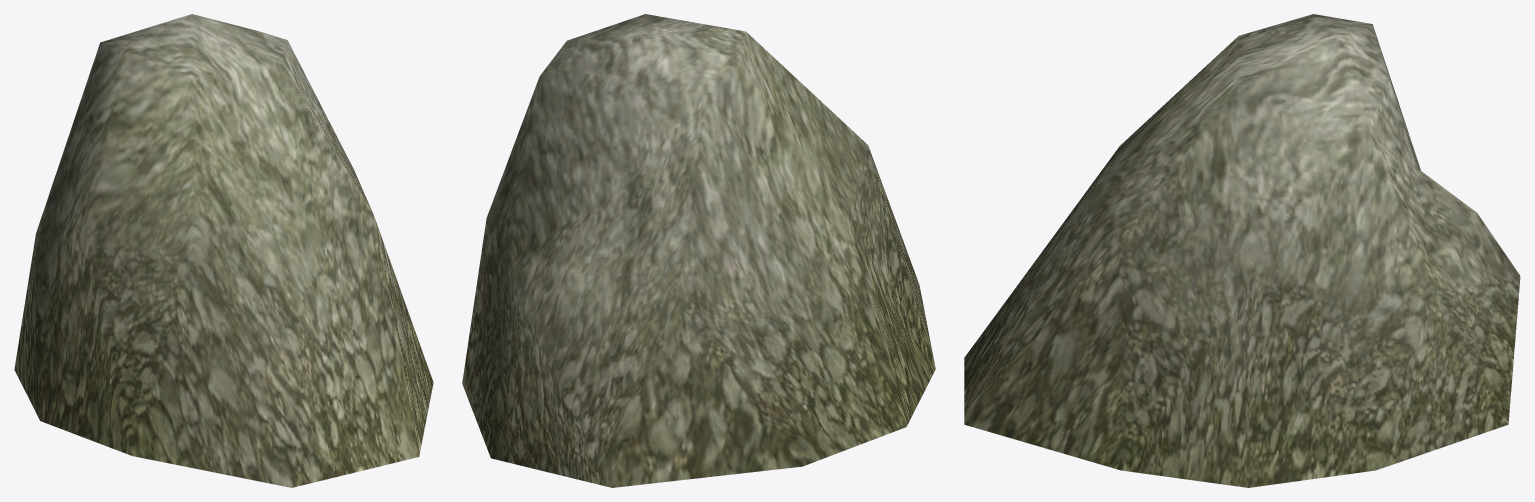
File: elwynncliffrock01.obj
3 renders of one model, left to right at view 1: azimuth 30°, elevation 25°; view 2: azimuth 150°, elevation 25°; view 3: azimuth 270°, elevation 25°, orthographic. The views are drawn at different scales.
Visible parts, largest first — view 1: elwynncliffrock01; view 2: elwynncliffrock01; view 3: elwynncliffrock01.
Boxes of the visible parts, left/top/right/bottom form: elwynncliffrock01: left=14, top=14, right=433, bottom=487; elwynncliffrock01: left=462, top=14, right=935, bottom=487; elwynncliffrock01: left=964, top=14, right=1520, bottom=487.
Bounding box in the file's own units: 15.87 × 13.57 × 19.25.
1 material, 1 textured.
